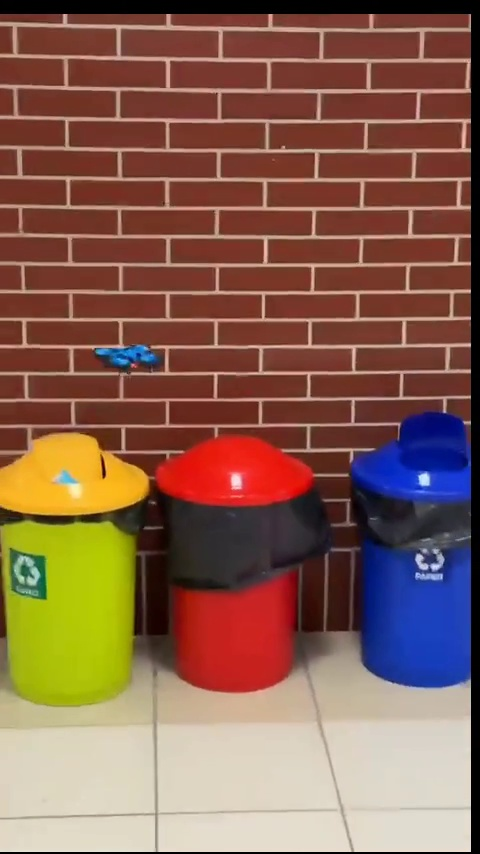drone: (96, 343, 160, 374)
